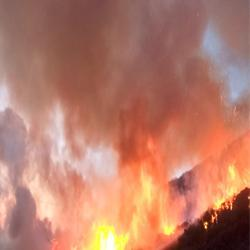fire: (88, 221, 136, 250)
